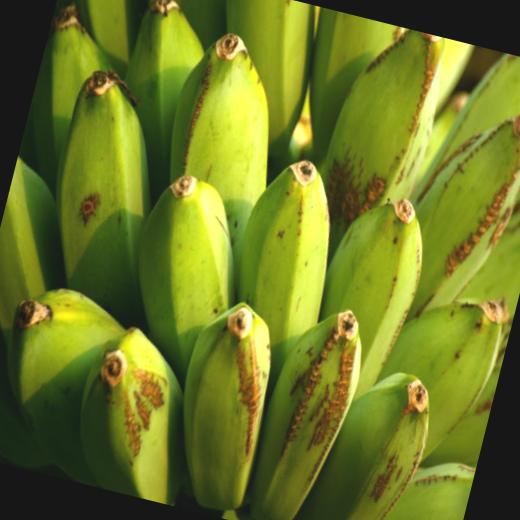Banana: (0, 0, 520, 520), (158, 294, 290, 515)
